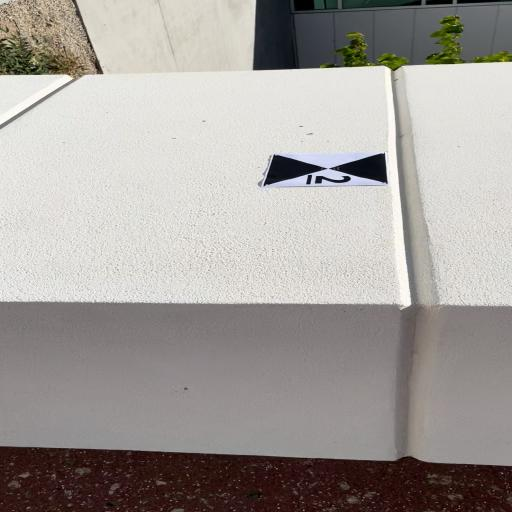target2: (258, 151, 393, 189)
